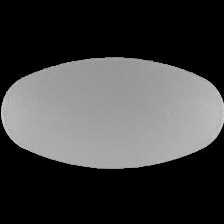55154-3432: (0, 0, 224, 224)
